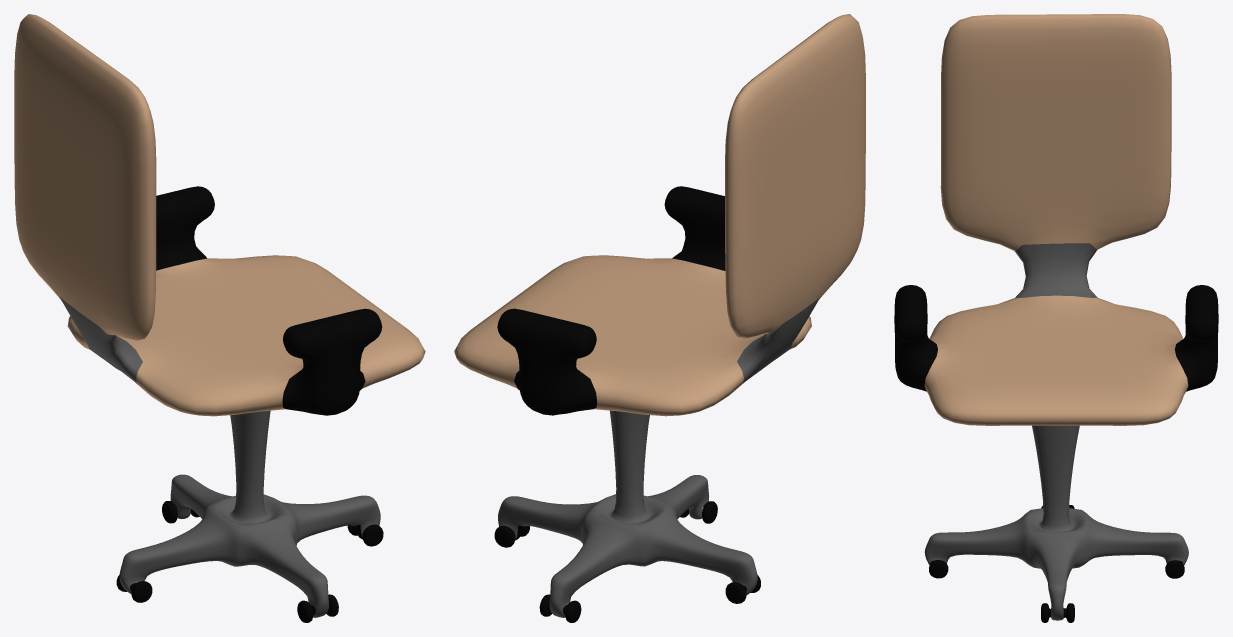
File: chair2.fbx
3 renders of one model, left to right at view 1: azimuth 30°, elevation 25°; view 2: azimuth 150°, elevation 25°; view 3: azimuth 270°, elevation 25°, orthographic. The views are drawn at different scales.
Visible parts, largest first — view 1: chair; view 2: chair; view 3: chair.
Boxes of the visible parts, x1=… form: chair: x1=14, y1=14, x2=425, y2=622; chair: x1=454, y1=14, x2=865, y2=622; chair: x1=894, y1=14, x2=1218, y2=622.
Bounding box in the file's own units: 1.96 × 3.4 × 2.05.
